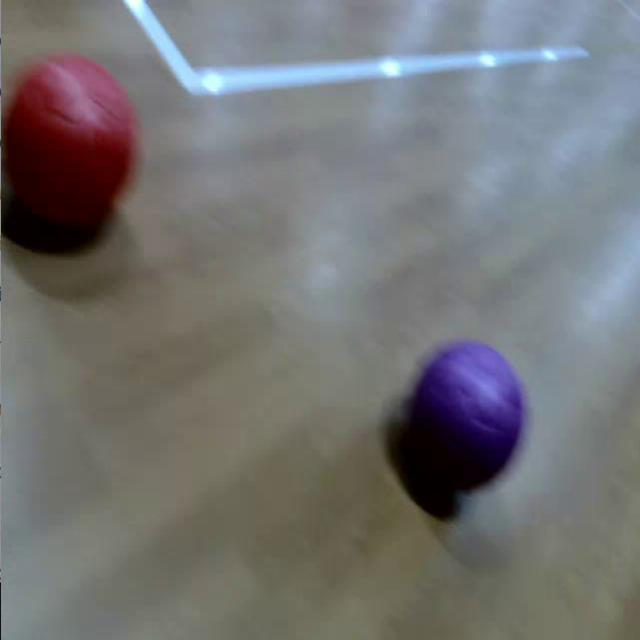purple_ball: (404, 335, 529, 504)
red_ball: (0, 54, 139, 238)
